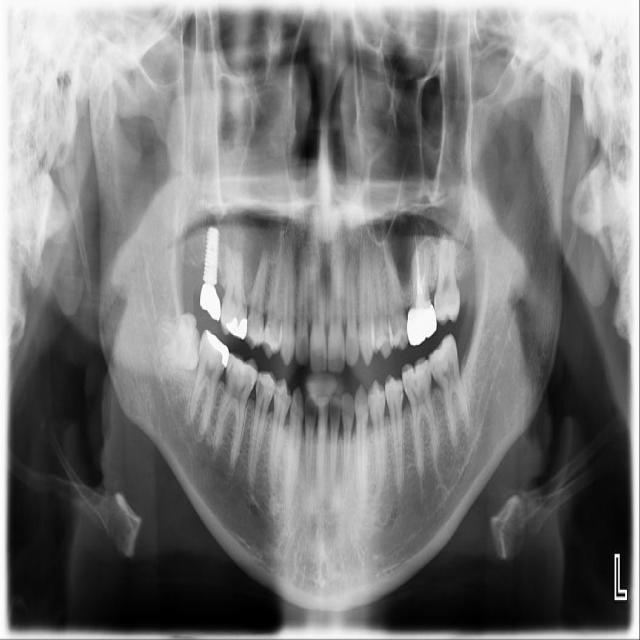52: (185, 327, 240, 380), (217, 349, 263, 398), (396, 355, 441, 402), (401, 295, 440, 347), (218, 292, 251, 340), (259, 316, 284, 361), (251, 369, 278, 409), (200, 281, 222, 321), (244, 309, 264, 350), (402, 379, 408, 390), (399, 388, 403, 396)
73: (409, 216, 432, 306), (613, 568, 616, 576)
BioHorizons Implant: (432, 226, 465, 327)
Blue Sky Bio Implant: (424, 332, 475, 449)
Implant: (185, 329, 233, 442)
Keystone Dental Implant: (156, 311, 202, 371)
